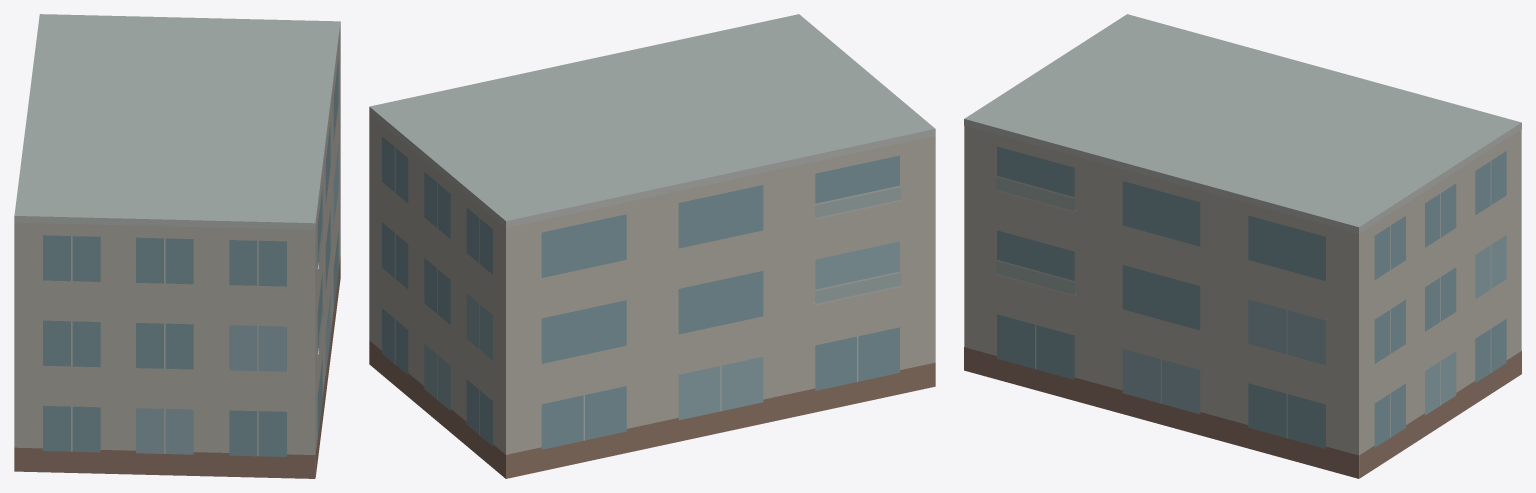
The model's file is survey-upis-33008896.glb.
3 views of the same model, side by side, from view 1: azimuth 30°, elevation 25°; view 2: azimuth 150°, elevation 25°; view 3: azimuth 270°, elevation 25° (orthographic). The views are drawn at different scales.
Visible parts, largest first — view 1: survey-upis-33008896.tmp; view 2: survey-upis-33008896.tmp; view 3: survey-upis-33008896.tmp.
Boxes of the visible parts, bbox=[...] form: survey-upis-33008896.tmp: bbox=[14, 14, 340, 478]; survey-upis-33008896.tmp: bbox=[369, 14, 935, 478]; survey-upis-33008896.tmp: bbox=[964, 14, 1521, 478].
Bounding box in the file's own units: 16.64 × 9.15 × 18.38.
